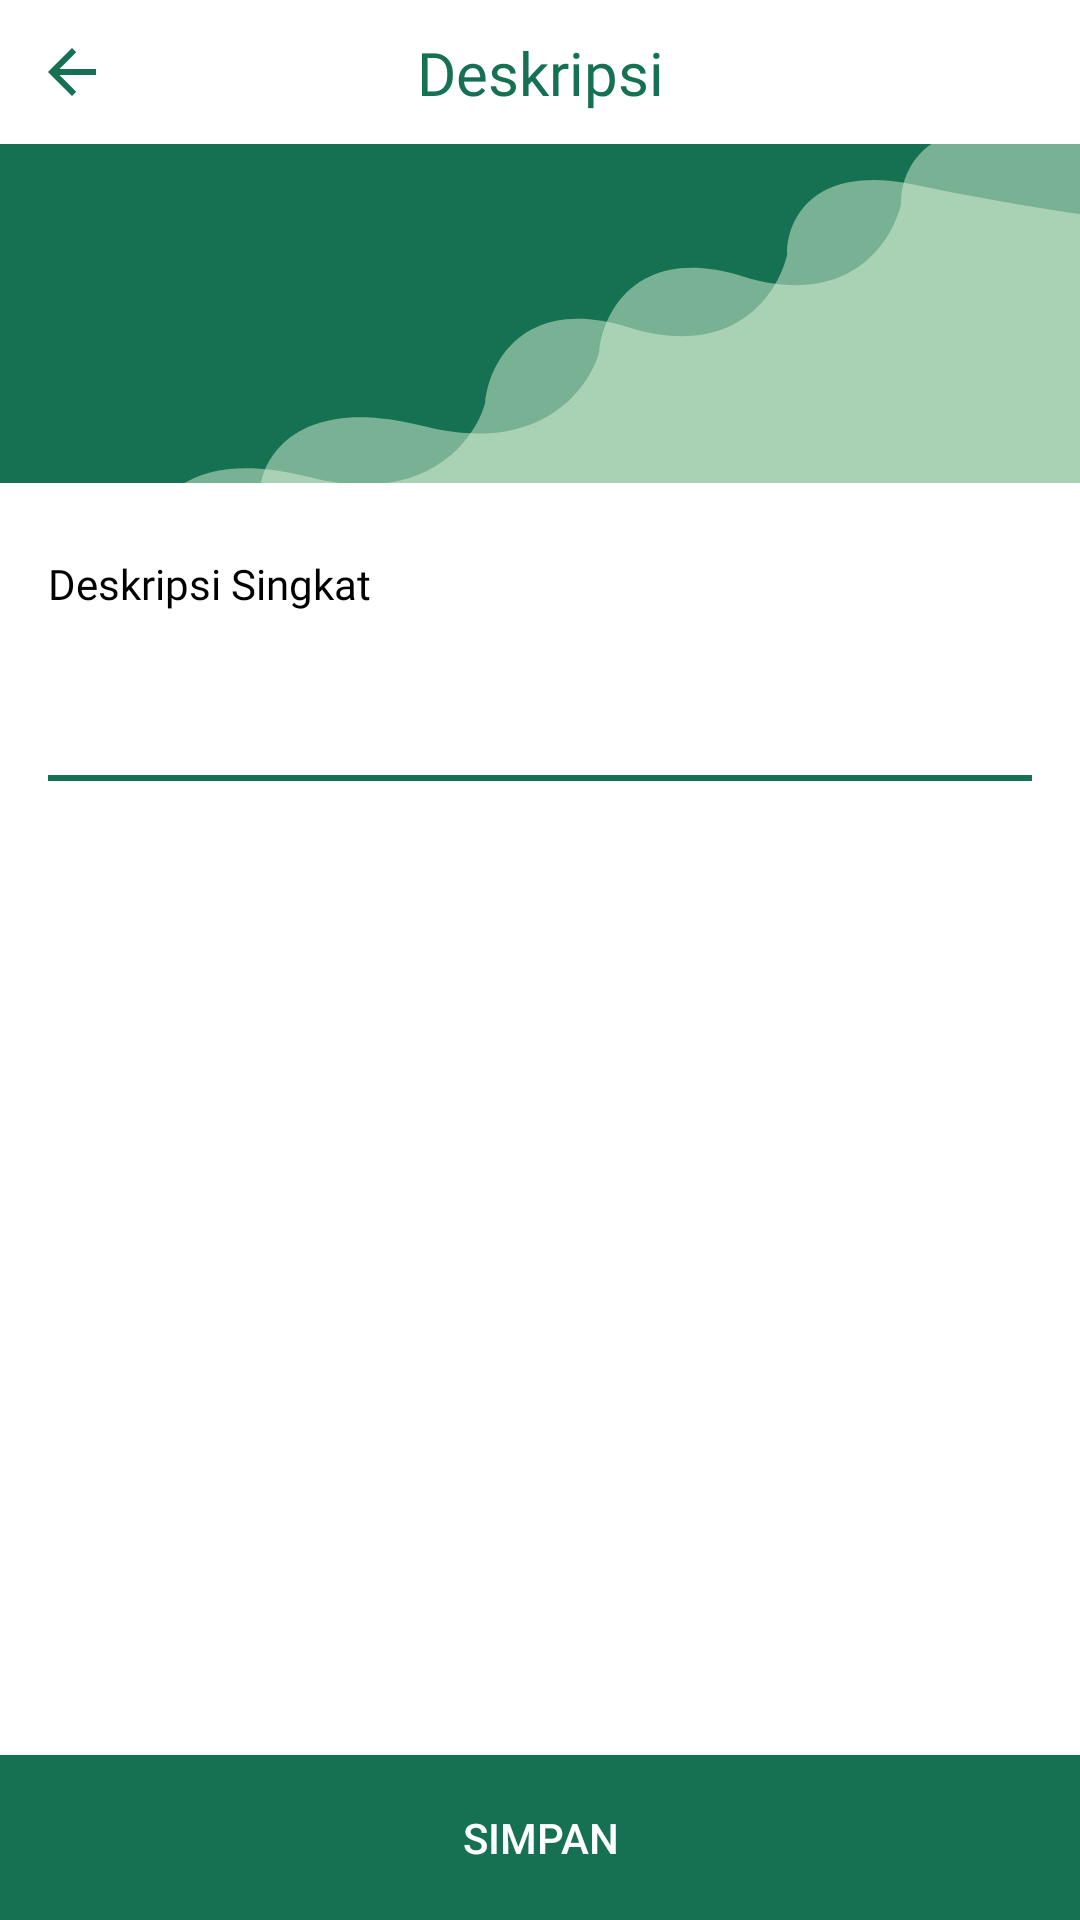

Screen size 1080w x 1920h. Icon name, then its box in pixels as (x1, y1, x2, y2):
back: (48, 48, 96, 96)
